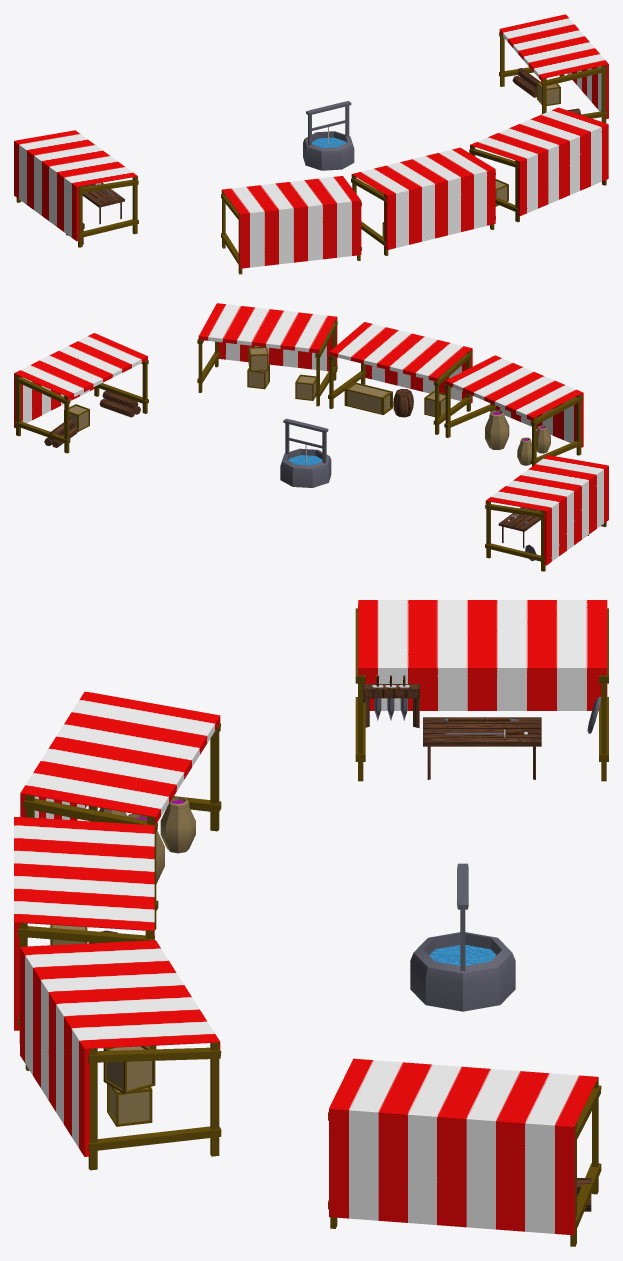
The model's file is lowpolymarket.glb.
The picture shows the model from 3 angles, top to bottom: view 1: azimuth 30°, elevation 25°; view 2: azimuth 150°, elevation 25°; view 3: azimuth 270°, elevation 25°; orthographic projection. The views are drawn at different scales.
Parts seen in each view (by area): view 1: Stall001, Stall, Stall002, Stall004, Stall003, Well, Table, Wood, Create004; view 2: Stall004, Stall002, Stall003, Stall001, Stall, Well, Create001, Vase, Wood001, Table, Create007, Barrel (+5 smaller); view 3: Stall003, Stall004, Stall002, Stall001, Stall, Well, Table, Weapon Rack, Create006, Create003, Vase002.
Part boxes in pixels (x1,y1,x2,y2): Stall001: [221, 176, 361, 274]; Stall: [351, 147, 495, 255]; Stall002: [469, 107, 608, 222]; Stall004: [14, 130, 138, 247]; Stall003: [499, 14, 608, 122]; Well: [303, 101, 354, 170]; Table: [82, 182, 124, 224]; Wood: [512, 68, 539, 97]; Create004: [537, 81, 560, 105]; Stall004: [485, 455, 608, 571]; Stall002: [197, 303, 337, 406]; Stall003: [14, 333, 148, 453]; Stall001: [444, 355, 583, 466]; Stall: [328, 322, 472, 434]; Well: [280, 418, 331, 487]; Create001: [344, 382, 392, 414]; Vase: [485, 410, 509, 449]; Wood001: [99, 390, 140, 417]; Table: [498, 507, 540, 547]; Create007: [295, 374, 316, 400]; Barrel: [393, 388, 413, 417]; Stall003: [328, 1058, 601, 1246]; Stall004: [355, 600, 608, 781]; Stall002: [20, 940, 221, 1170]; Stall001: [20, 691, 221, 930]; Stall: [14, 817, 154, 1043]; Well: [410, 863, 515, 1011]; Table: [423, 717, 541, 779]; Weapon Rack: [363, 675, 419, 728]; Create006: [103, 1046, 155, 1094]; Create003: [107, 1084, 152, 1126]; Vase002: [160, 797, 195, 853].
Size of the model in its own units: 2526 by 276 by 1205.
Materials: 14 (14 with a texture image).
